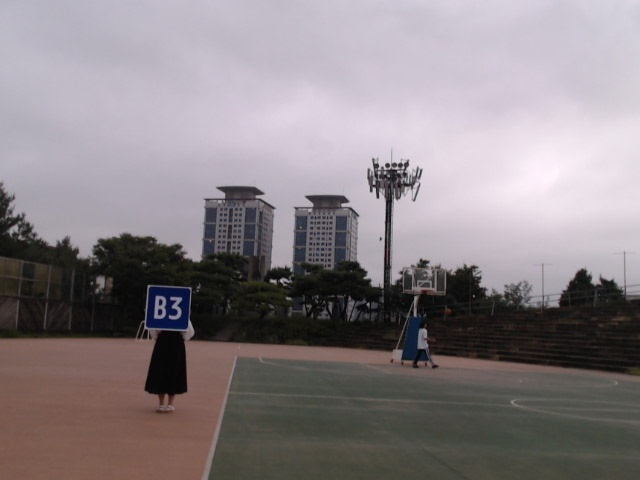delivery_b3: (146, 286, 191, 330)
